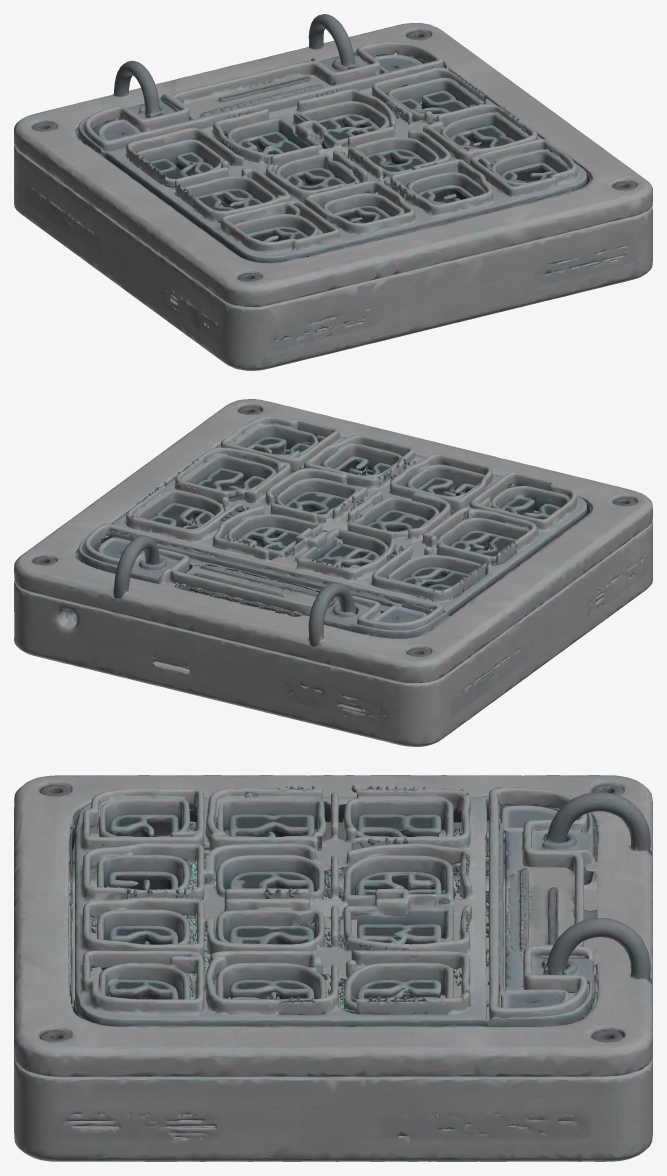
File: calendarium.glb
3 renders of one model, top to bottom at view 1: azimuth 30°, elevation 25°; view 2: azimuth 150°, elevation 25°; view 3: azimuth 270°, elevation 25°, orthographic. The views are drawn at different scales.
Parts seen in each view (by area): view 1: geometry_0; view 2: geometry_0; view 3: geometry_0.
Part boxes in pixels (<box>): geometry_0: <box>14,14,652,370</box>; geometry_0: <box>14,399,652,746</box>; geometry_0: <box>14,775,652,1161</box>.
Size of the model in its own units: 1 by 0.2844 by 0.9673.
1 material, 1 textured.
